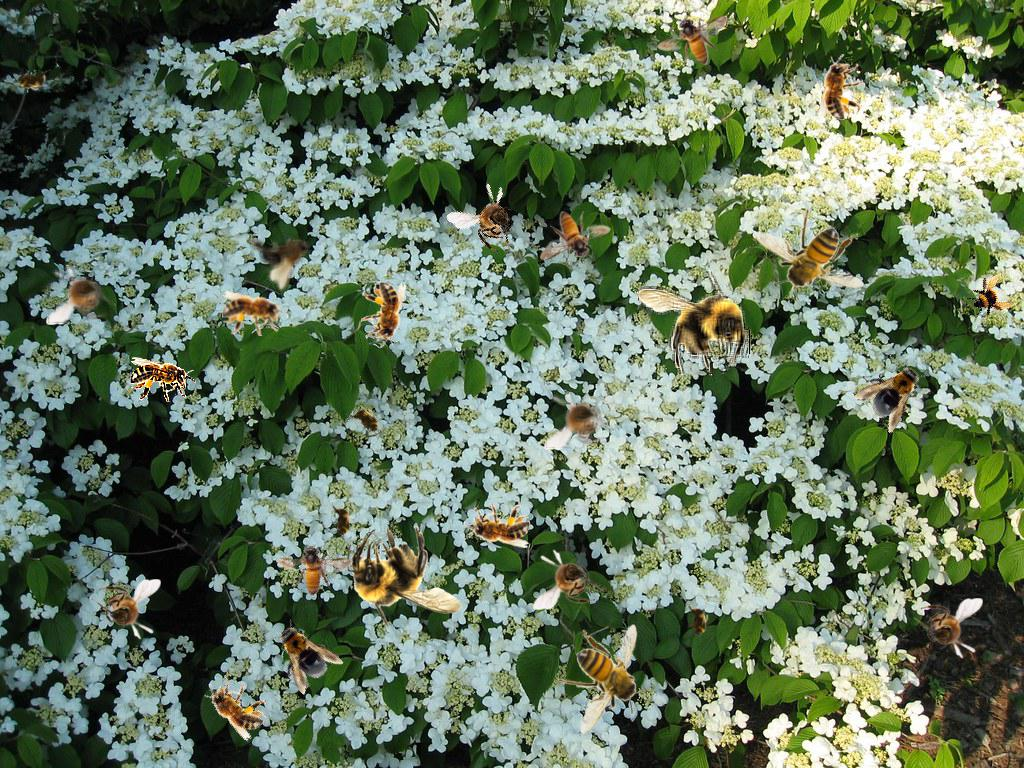Bee: (347, 525, 462, 632), (636, 269, 751, 376), (557, 624, 651, 735), (753, 208, 864, 302), (445, 172, 538, 266), (851, 348, 937, 434), (260, 611, 344, 697), (244, 212, 323, 294), (268, 531, 354, 606), (195, 668, 275, 743), (91, 579, 161, 640), (544, 389, 614, 450), (533, 549, 603, 610), (913, 598, 983, 659), (46, 264, 116, 325), (958, 267, 1018, 327), (540, 211, 611, 261), (657, 15, 728, 65), (130, 357, 196, 402), (361, 282, 406, 348), (464, 503, 530, 548), (818, 54, 863, 120), (222, 291, 288, 336), (345, 398, 389, 444), (687, 602, 709, 642), (331, 502, 353, 542), (11, 69, 51, 91)
